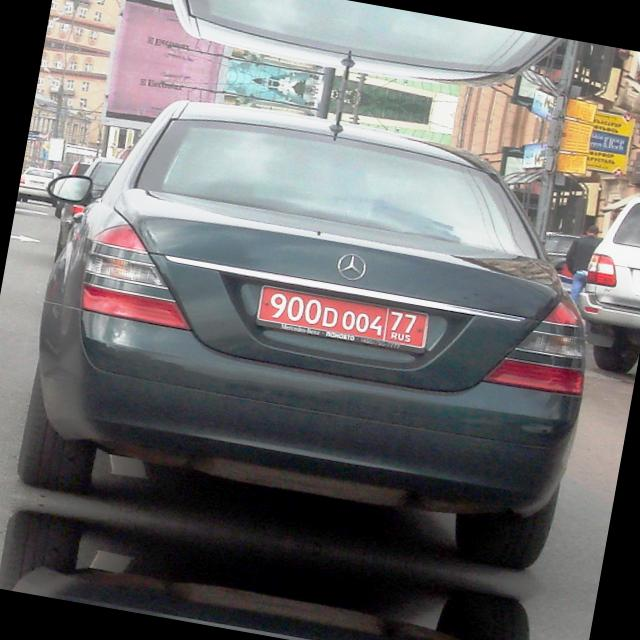diplomatic: (244, 276, 438, 362)
